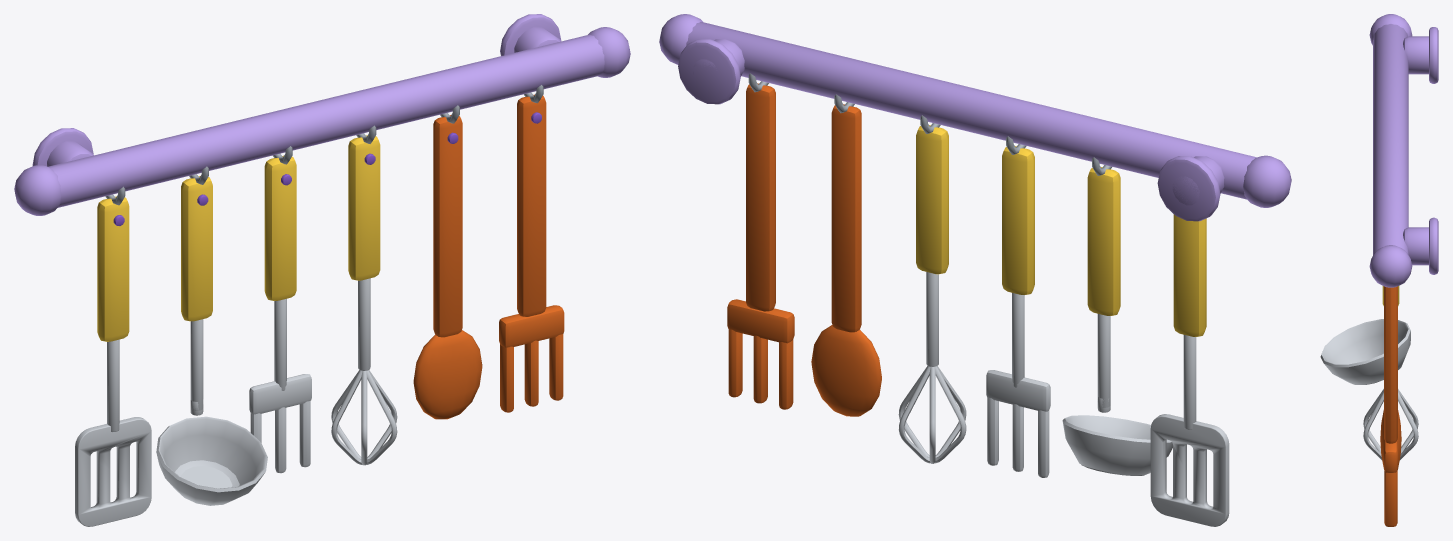
The model's file is barra_utensilios.glb.
3 renders of one model, left to right at view 1: azimuth 30°, elevation 25°; view 2: azimuth 150°, elevation 25°; view 3: azimuth 270°, elevation 25°, orthographic. The views are drawn at different scales.
Parts seen in each view (by area): view 1: barra_utensilios; view 2: barra_utensilios; view 3: barra_utensilios.
Part boxes in pixels (<box>): barra_utensilios: <box>14,14,630,526</box>; barra_utensilios: <box>659,14,1291,526</box>; barra_utensilios: <box>1320,14,1438,526</box>.
Size of the model in its own units: 0.4951 by 0.2982 by 0.0993.
1 material, 1 textured.
